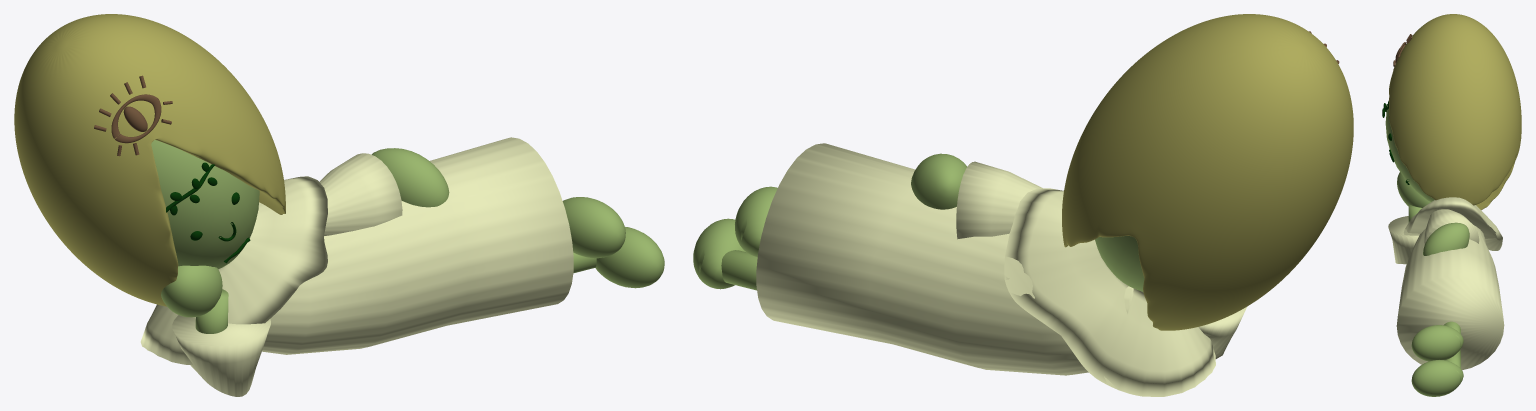
Rendered from pisutatiokaradatuki.fbx.
3 views of the same model, side by side, from view 1: azimuth 30°, elevation 25°; view 2: azimuth 150°, elevation 25°; view 3: azimuth 270°, elevation 25° (orthographic). The views are drawn at different scales.
Visible parts, largest first — view 1: Cylinder.010; view 2: Cylinder.010; view 3: Cylinder.010.
Boxes of the visible parts, x1,y1,x2,y2 form: Cylinder.010: (14,14,664,396); Cylinder.010: (693,14,1353,396); Cylinder.010: (1382,14,1521,396).
Bounding box in the file's own units: 731 × 431 × 240.
